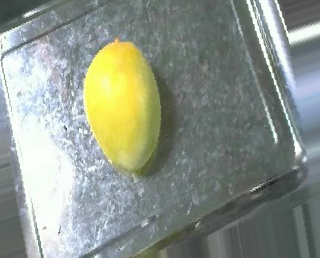Mango: (77, 37, 176, 177)
